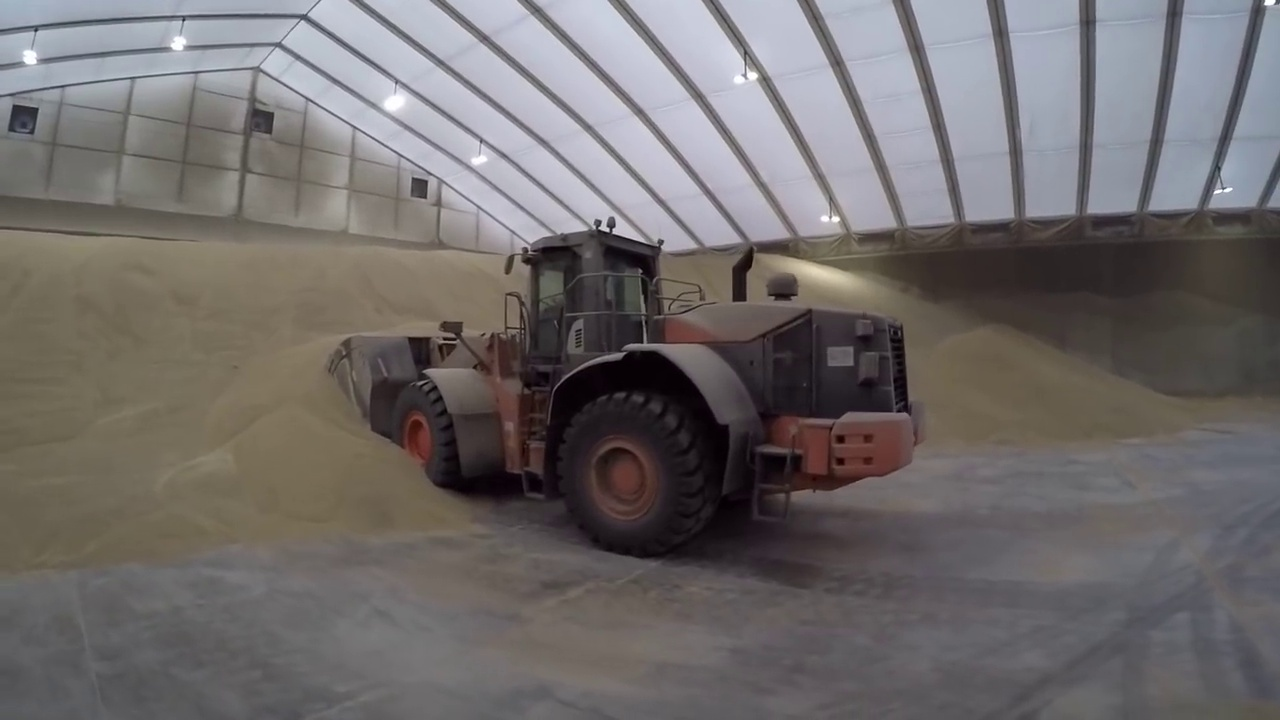wheel loader: (326, 220, 936, 552)
